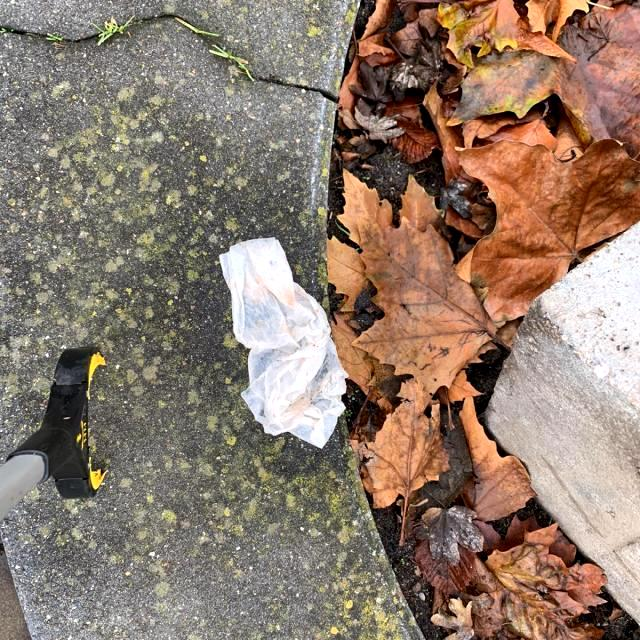Paper: (220, 236, 348, 448)
